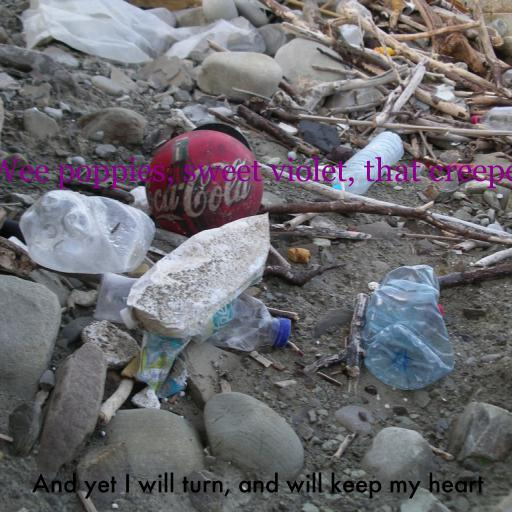Futura: (32, 472, 484, 499)
Georgia: (0, 156, 512, 189)
